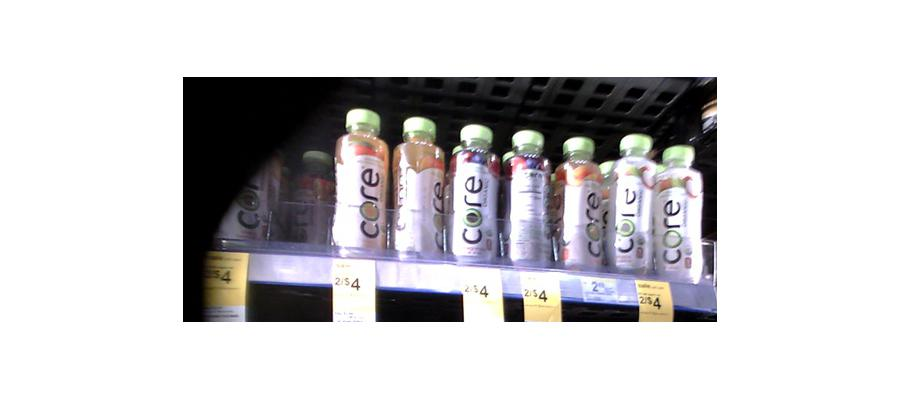bottle: (330, 112, 390, 265), (444, 125, 500, 271), (390, 119, 446, 261), (555, 138, 610, 275), (503, 132, 554, 272), (655, 143, 704, 284), (610, 137, 658, 277)
